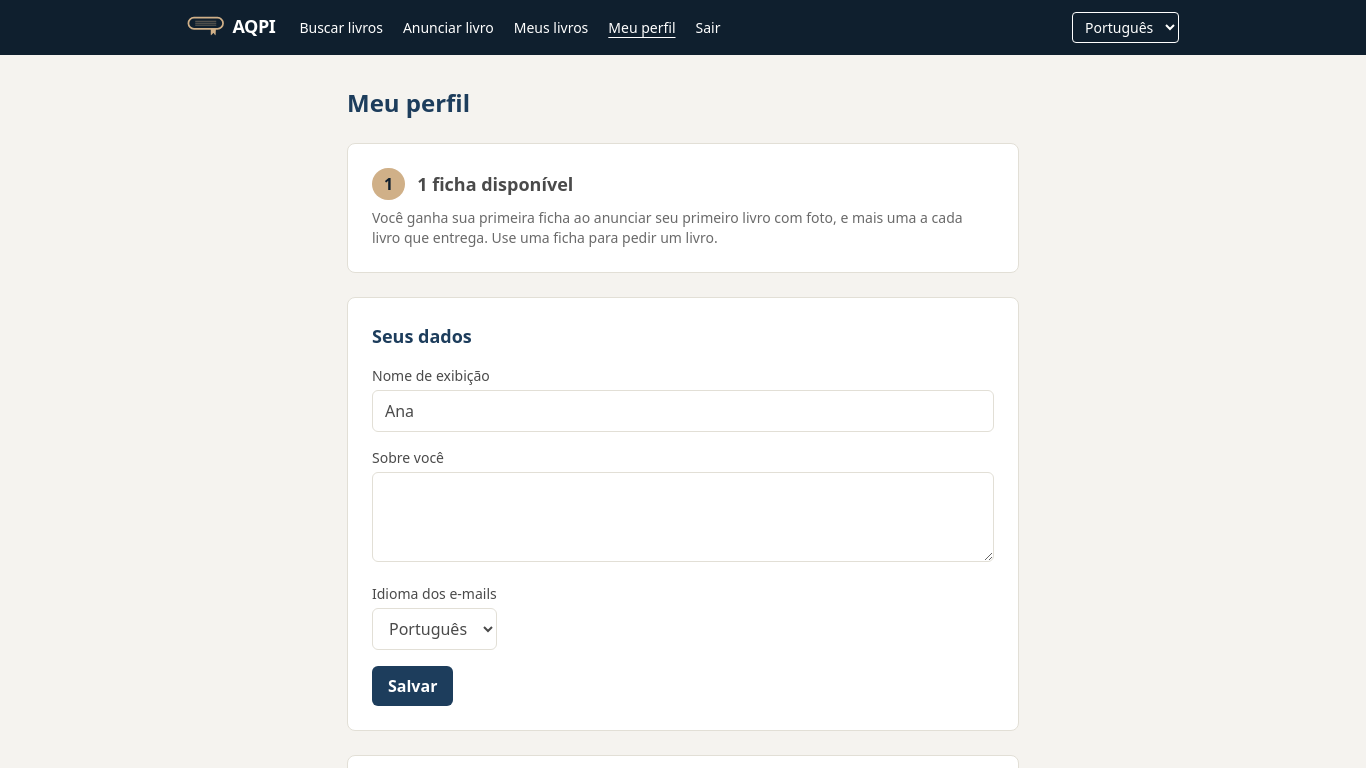
Test: auth flow › keeps a returning user signed in and logs out
Expected: the heading "Meu perfil" is shown, [347,86,470,119]
Click the button "Sair".
click(708, 28)  # box [688,14,728,42]
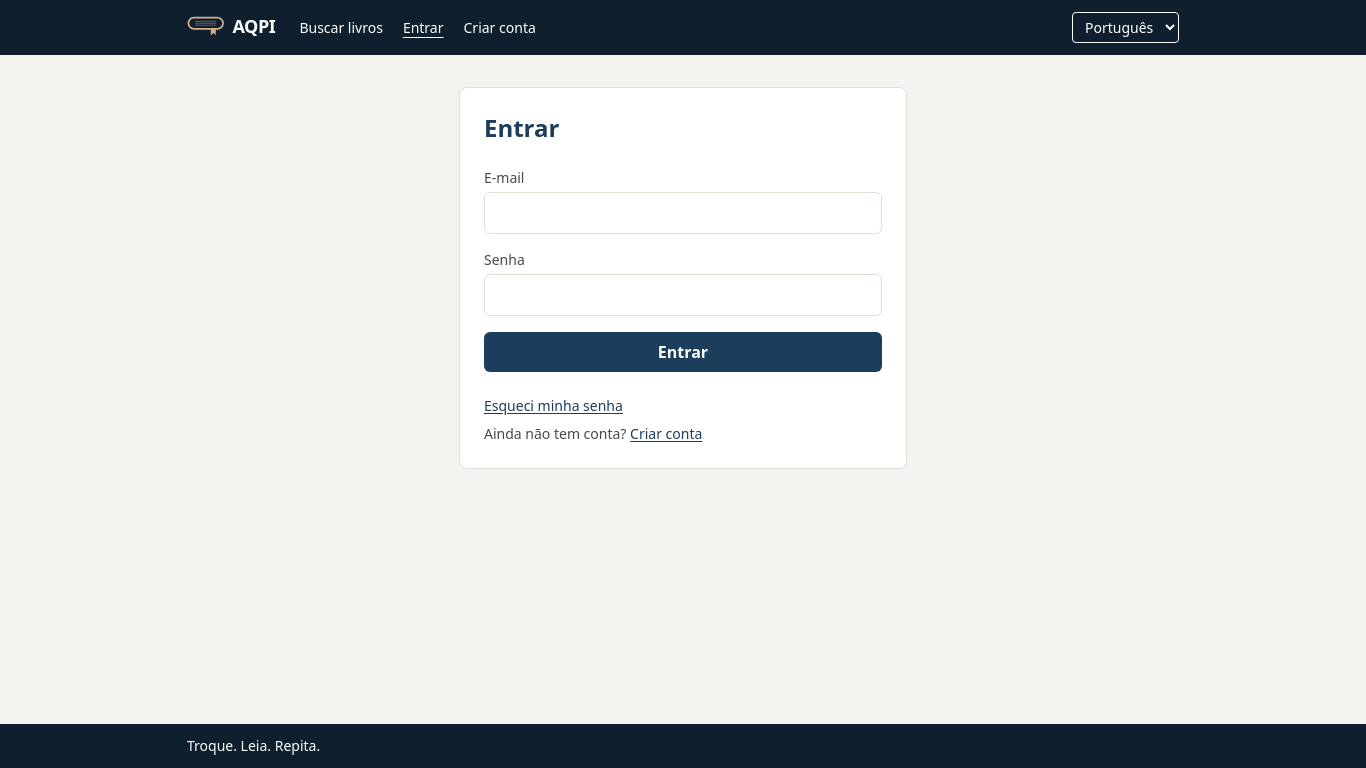
Now the link "Entrar" is shown, box [403,18,444,36]
